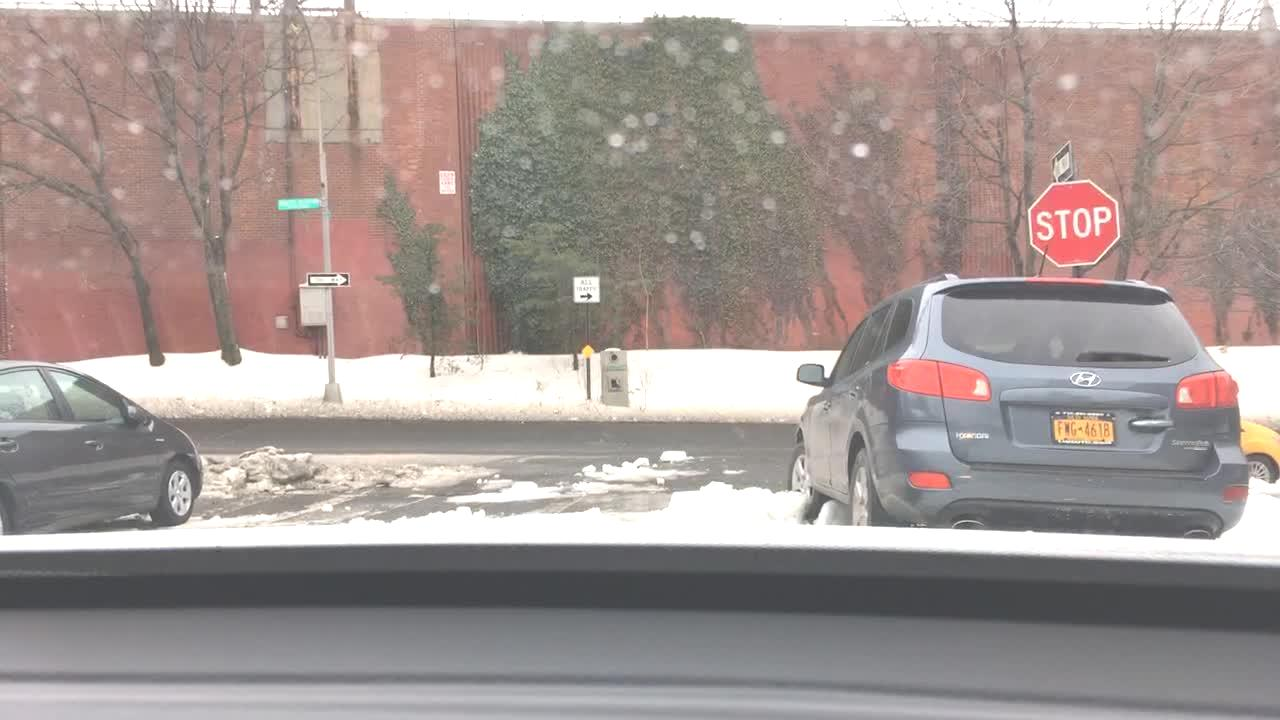Hyundai: (1064, 366, 1117, 397)
